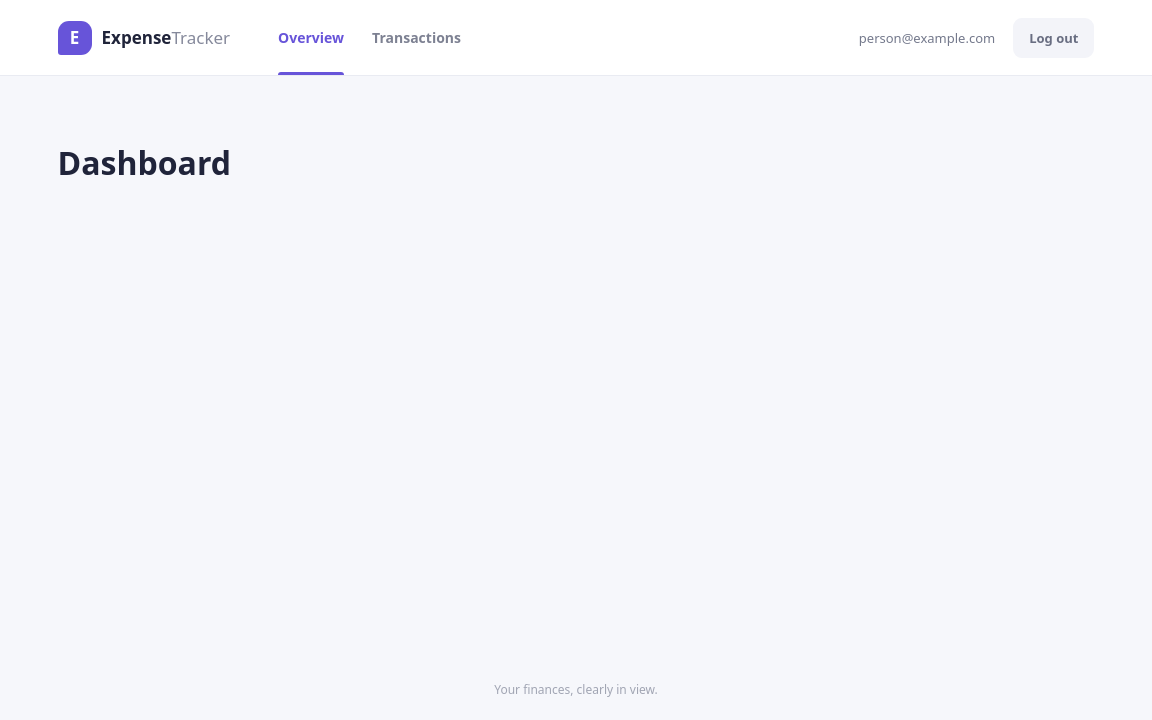
Scenario: logout session state › keeps the user signed in when logout fails so they can retry
Check: the text "person@example.com" is shown, box [859, 28, 995, 46]
Click the button "Log out". click: (1054, 38)
box: [1013, 18, 1094, 58]
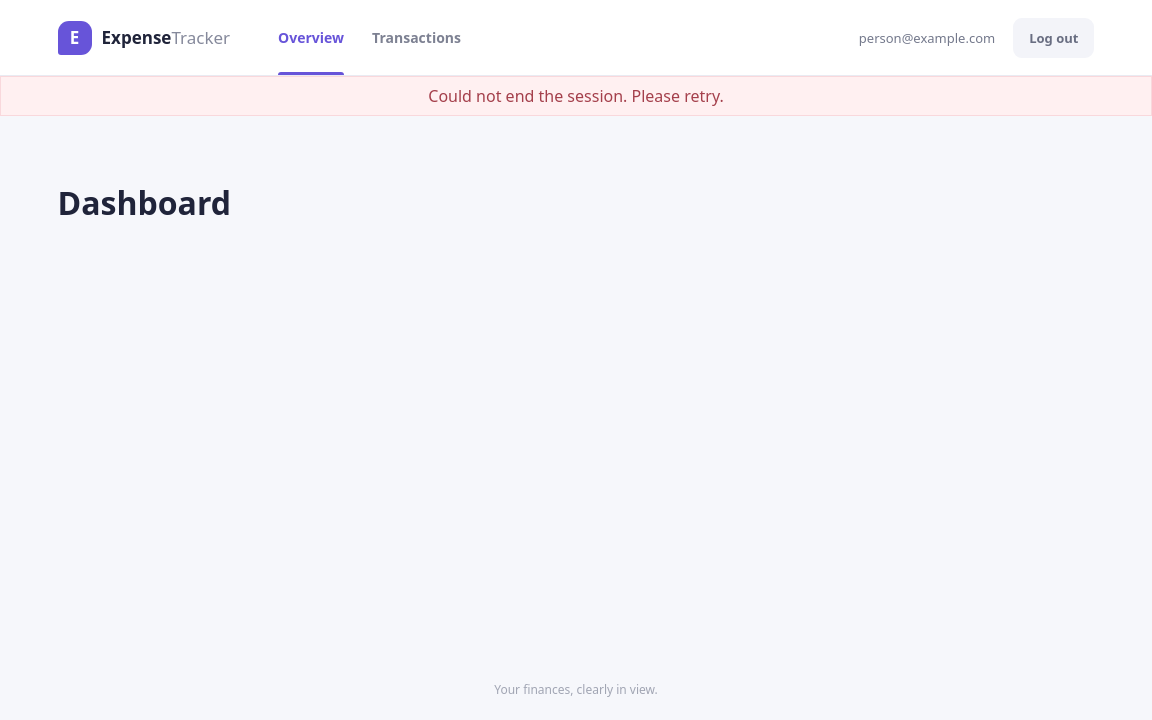
Check: the heading "Dashboard" is shown, box [58, 181, 231, 224]
Check: the message shows "Could not end the session", box [428, 85, 724, 107]
